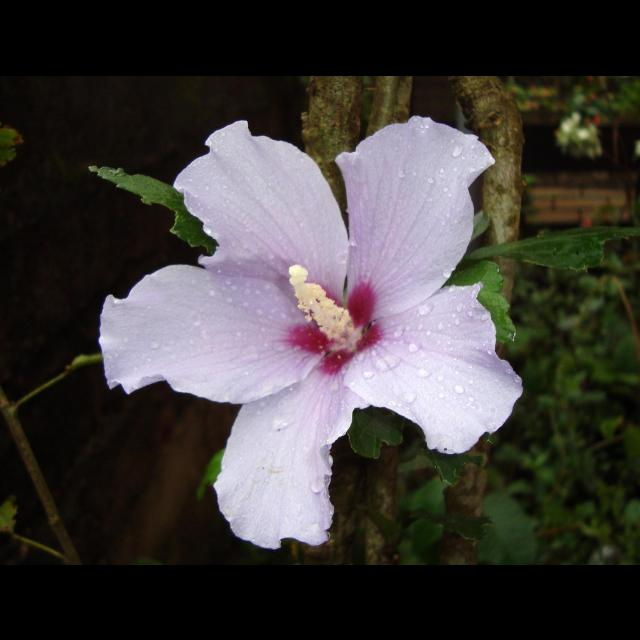Flower: (104, 105, 510, 529)
